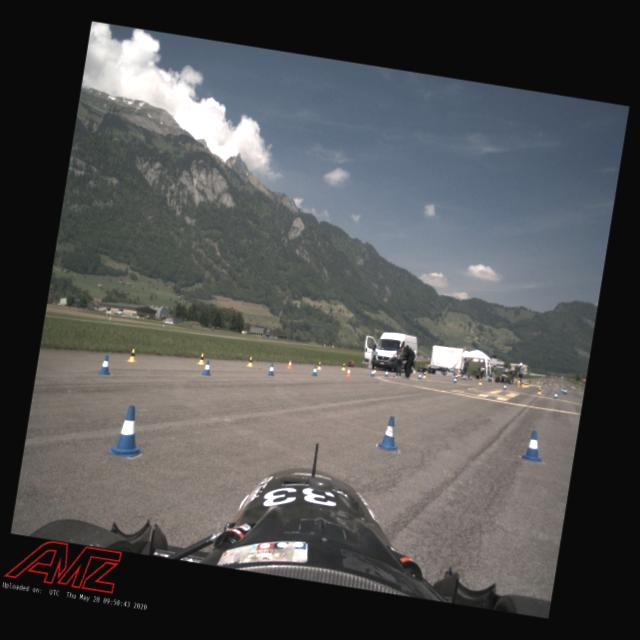blue_cone: (105, 403, 150, 461), (376, 414, 404, 452), (522, 429, 546, 463), (99, 354, 112, 376), (202, 360, 212, 376), (267, 363, 276, 377), (311, 365, 319, 377), (370, 368, 376, 377), (553, 391, 559, 400), (384, 369, 389, 378), (453, 376, 458, 384), (503, 383, 508, 391), (418, 373, 422, 380), (564, 389, 568, 395), (562, 388, 566, 393), (561, 388, 564, 392)
orange_cone: (286, 359, 294, 370), (345, 367, 352, 378)
yellow_cone: (126, 348, 138, 363), (197, 353, 207, 366), (246, 357, 254, 368), (316, 362, 322, 371), (478, 378, 483, 386), (537, 388, 542, 396), (372, 366, 378, 372), (342, 364, 346, 372), (422, 372, 427, 378), (526, 382, 530, 388), (517, 378, 521, 382), (524, 382, 527, 387), (521, 383, 524, 388)
